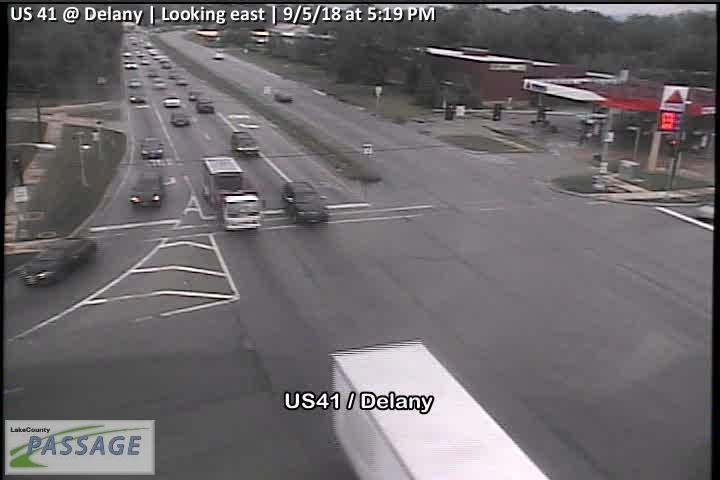SUV: (282, 179, 329, 225), (230, 130, 260, 158), (195, 99, 215, 114), (213, 52, 225, 60)
Sedan: (18, 235, 96, 288), (127, 169, 165, 209), (139, 136, 165, 160), (161, 94, 183, 108), (172, 112, 191, 127), (273, 90, 294, 103), (129, 91, 148, 104), (152, 77, 169, 91), (128, 77, 144, 86), (175, 77, 190, 86)
Truck: (201, 154, 267, 231)
